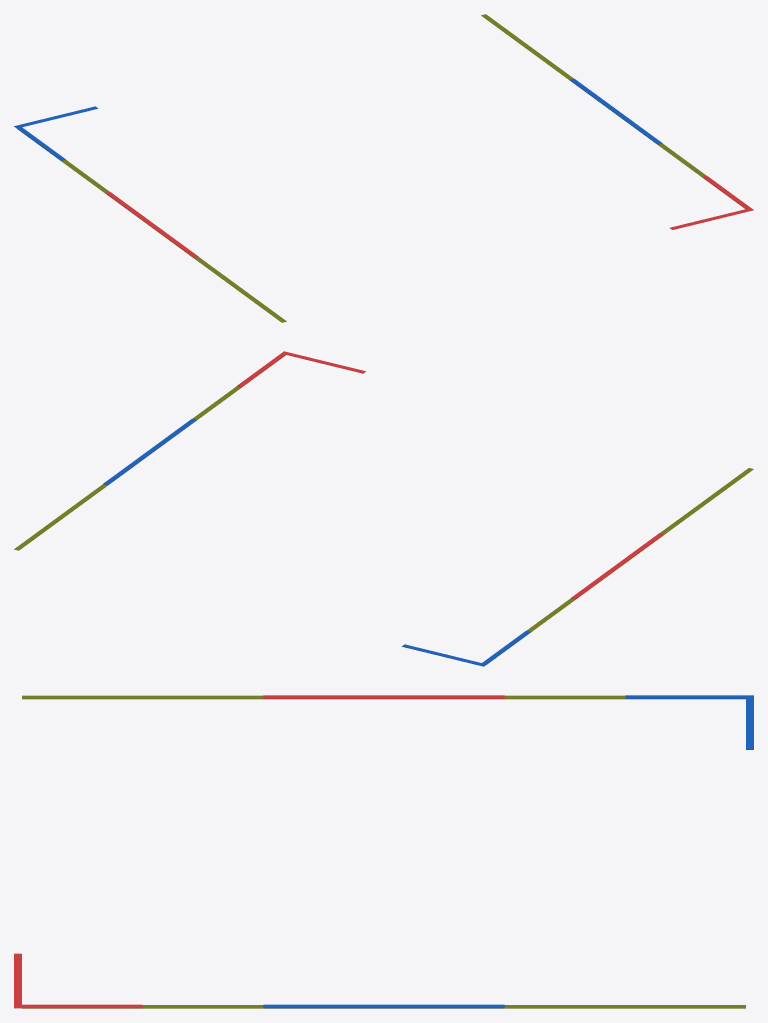
3 views of the same model, one above another, from view 1: azimuth 30°, elevation 25°; view 2: azimuth 150°, elevation 25°; view 3: azimuth 270°, elevation 25° (orthographic). The views are drawn at different scales.
Bounding box in the file's own units: 93.44 × 0.1 × 93.44.
3 materials, 3 textured.
